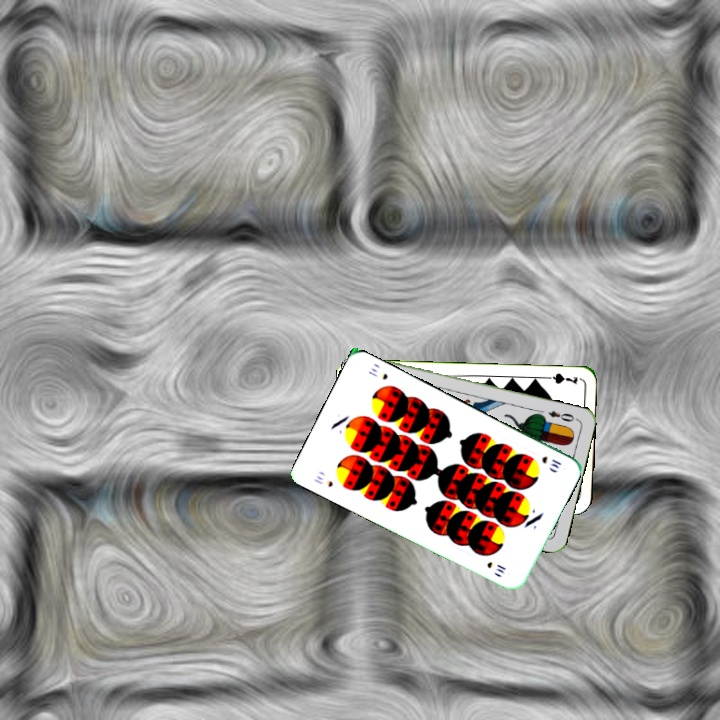EO: (544, 406, 577, 425)
G7: (540, 369, 580, 387)
S10: (537, 452, 564, 471), (310, 471, 336, 490)
